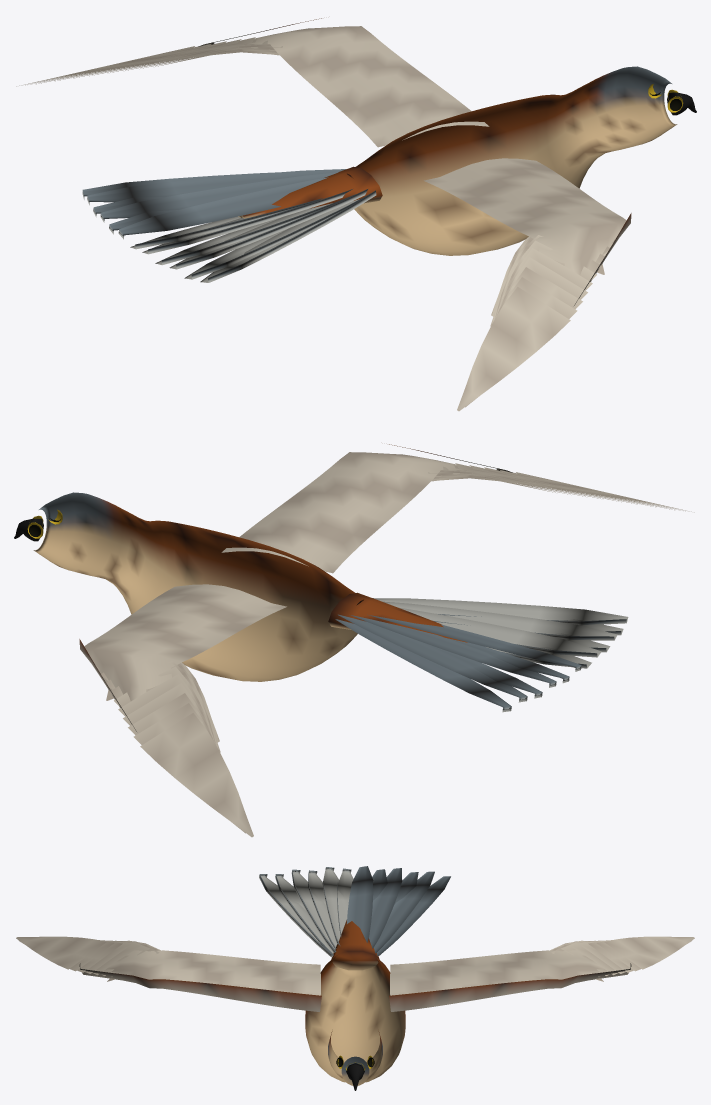
The model's file is SM_Bird_kestrel_flap3.glb.
3 views of the same model, one above another, from view 1: azimuth 30°, elevation 25°; view 2: azimuth 150°, elevation 25°; view 3: azimuth 270°, elevation 25° (orthographic). The views are drawn at different scales.
Visible parts, largest first — view 1: SM_Bird_kestrel_flap3; view 2: SM_Bird_kestrel_flap3; view 3: SM_Bird_kestrel_flap3.
Part boxes in pixels (x1,y1,x2,y2): SM_Bird_kestrel_flap3: [16, 18, 696, 411]; SM_Bird_kestrel_flap3: [14, 444, 694, 837]; SM_Bird_kestrel_flap3: [16, 866, 694, 1090].
Size of the model in its own units: 0.379 by 0.0892 by 0.5137.
